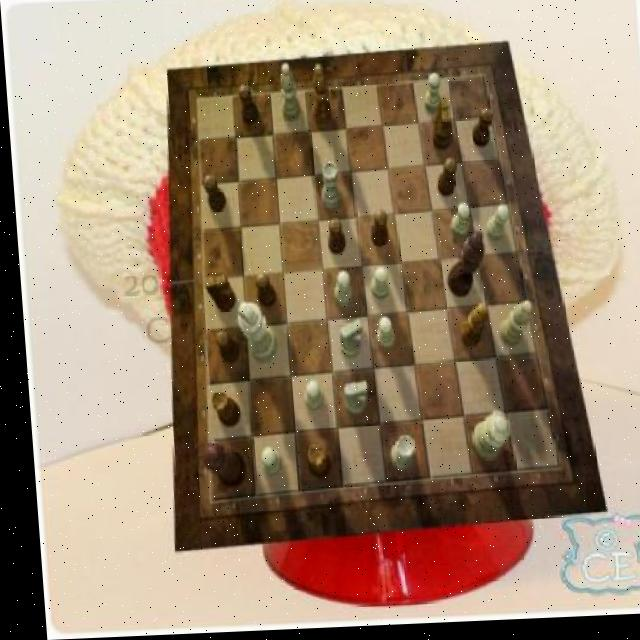bishop: (453, 309, 485, 352), (308, 69, 330, 128)
black-bishop: (439, 235, 483, 301)
black-king: (199, 276, 233, 314), (428, 102, 451, 156)
black-knight: (468, 112, 493, 152), (200, 176, 225, 214), (210, 331, 236, 366), (432, 163, 455, 202), (237, 87, 258, 127), (251, 276, 273, 311), (365, 213, 385, 250), (323, 221, 342, 258)
black-pawn: (194, 442, 239, 491)
black-queen: (205, 391, 236, 430), (301, 446, 326, 482)
black-rook: (493, 305, 531, 352), (277, 65, 299, 124)
white-bishop: (232, 302, 273, 366)
white-king: (333, 322, 359, 363), (337, 385, 363, 420)
white-knight: (481, 209, 508, 246), (422, 77, 442, 118), (447, 207, 469, 244), (329, 274, 349, 311), (364, 270, 385, 305), (370, 321, 390, 356), (297, 383, 318, 415), (254, 448, 276, 478)
white-pawn: (464, 414, 506, 465)
white-queen: (316, 166, 339, 214), (382, 439, 408, 474)
